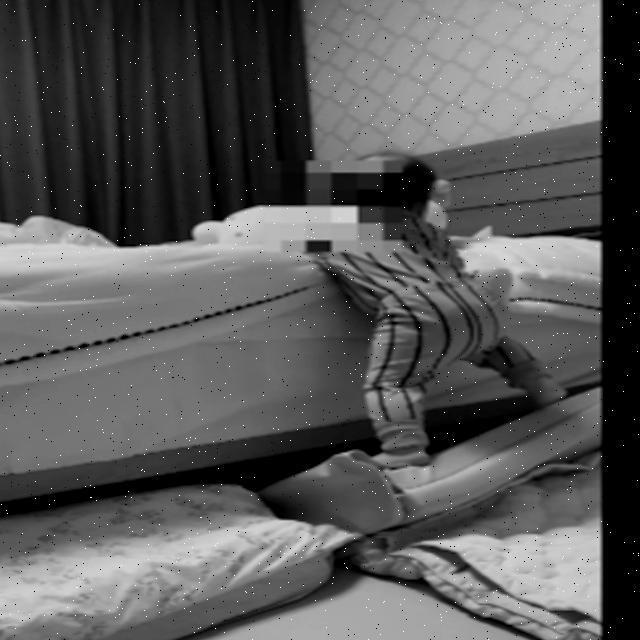child: (290, 162, 573, 469)
